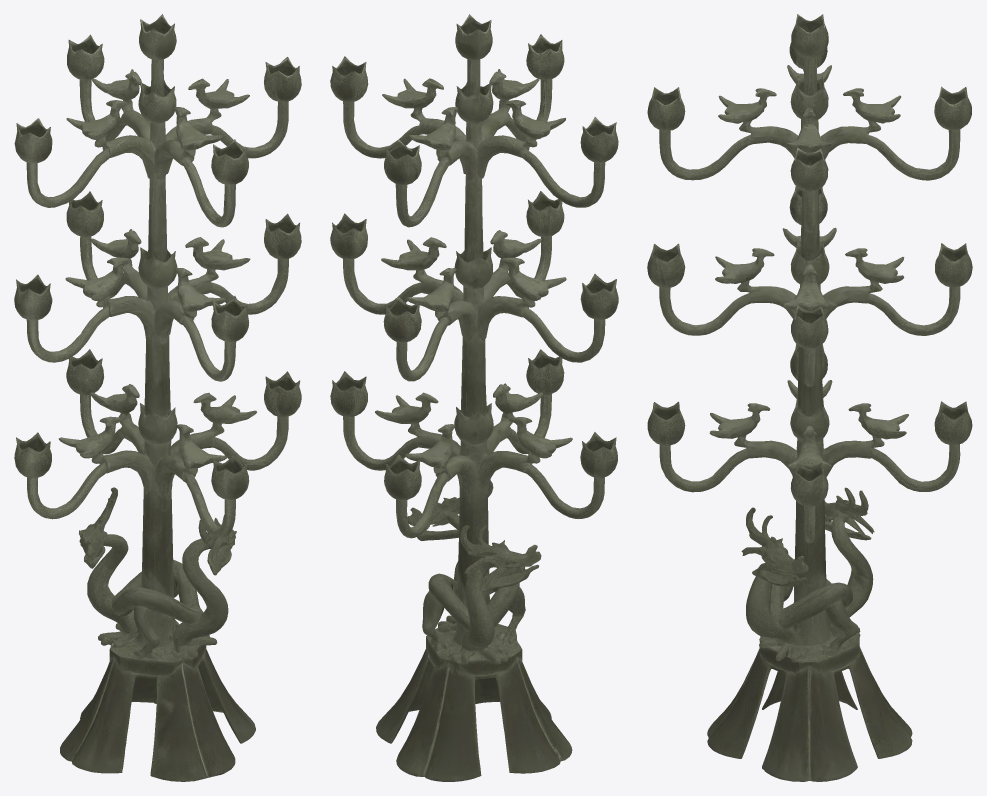
File: tree.glb
3 views of the same model, side by side, from view 1: azimuth 30°, elevation 25°; view 2: azimuth 150°, elevation 25°; view 3: azimuth 270°, elevation 25° (orthographic).
Bounding box in the file's own units: 0.7778 × 1.89 × 0.7754.
Materials: 1 (1 with a texture image).
